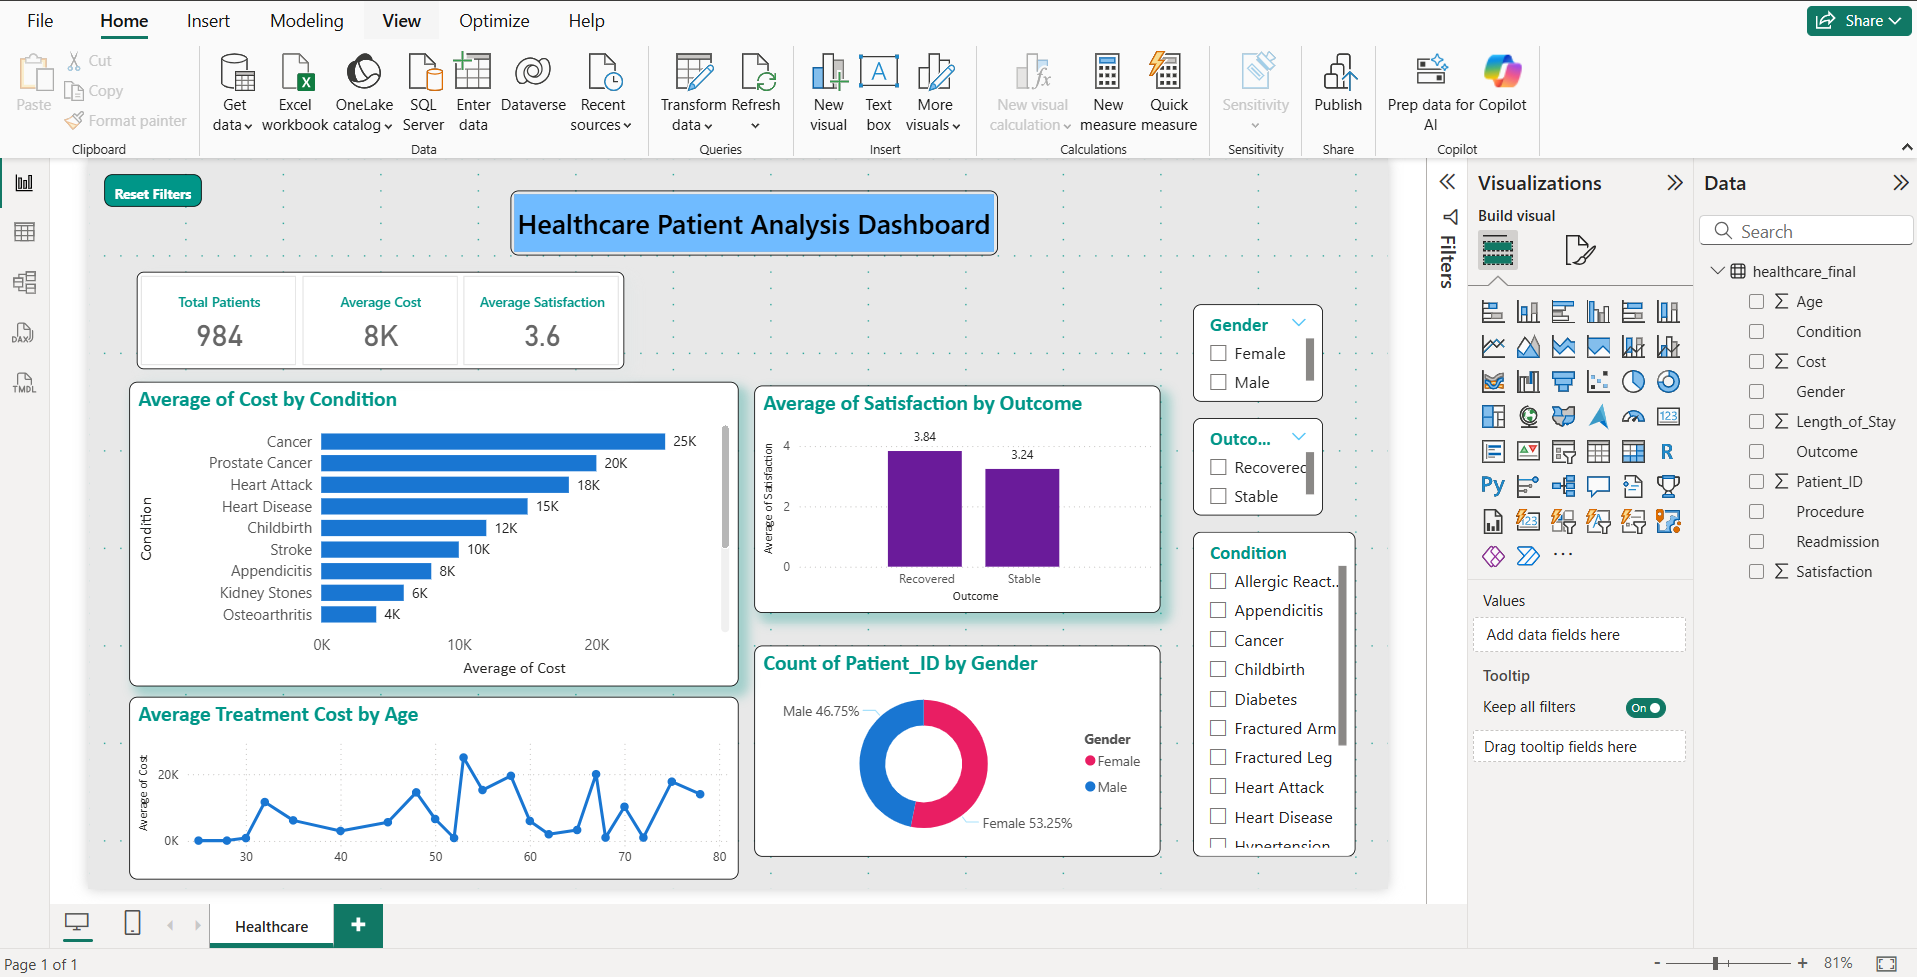

What the dashboard file says about the page in this screenshot:
{"tool":"powerbi","page":{"name":"Healthcare","canvas":[1280,720],"ordinal":0},"visuals":[{"type":"donutChart","fields":{"Category":["healthcare_final.Gender"],"Y":["CountNonNull(healthcare_final.Patient_ID)"]},"box":[656,480,400,208],"z":0},{"type":"clusteredBarChart","fields":{"Category":["healthcare_final.Condition"],"Y":["Avg(healthcare_final.Cost)"]},"box":[40,220,600,300],"z":1000},{"type":"slicer","fields":{"Values":["healthcare_final.Gender"]},"box":[1088,144,128,96],"z":2000},{"type":"slicer","fields":{"Values":["healthcare_final.Outcome"]},"box":[1088,256,128,96],"z":3000},{"type":"slicer","fields":{"Values":["healthcare_final.Condition"]},"box":[1088,368,160,320],"z":4000},{"type":"actionButton","box":[16,16,96,32],"z":5000},{"type":"shape","box":[416,32,480,64],"z":6000},{"type":"cardVisual","fields":{"Data":["CountNonNull(healthcare_final.Patient_ID)","Avg(healthcare_final.Cost)","Avg(healthcare_final.Satisfaction)"]},"box":[48,112,480,96],"z":7000},{"type":"clusteredColumnChart","fields":{"Category":["healthcare_final.Outcome"],"Y":["Avg(healthcare_final.Satisfaction)"]},"box":[656,224,400,224],"z":8000},{"type":"lineChart","title":"Average Treatment Cost by Age","fields":{"Category":["healthcare_final.Age"],"Y":["Avg(healthcare_final.Cost)"]},"box":[40,530,600,180],"z":9000}]}

Visuals, with their boxes on the page's 1280x720 design canvas (x1, y1, x2, y2). These are canvas units, not pixel positions in the 1917x977 screenshot, which may show the page scaled, cropped or inside an application window:
donutChart - healthcare_final.Gender x CountNonNull(healthcare_final.Patient_ID): Rect(656, 480, 1056, 688)
clusteredBarChart - healthcare_final.Condition x Avg(healthcare_final.Cost): Rect(40, 220, 640, 520)
slicer - healthcare_final.Gender: Rect(1088, 144, 1216, 240)
slicer - healthcare_final.Outcome: Rect(1088, 256, 1216, 352)
slicer - healthcare_final.Condition: Rect(1088, 368, 1248, 688)
actionButton: Rect(16, 16, 112, 48)
shape: Rect(416, 32, 896, 96)
cardVisual - CountNonNull(healthcare_final.Patient_ID) x Avg(healthcare_final.Cost): Rect(48, 112, 528, 208)
clusteredColumnChart - healthcare_final.Outcome x Avg(healthcare_final.Satisfaction): Rect(656, 224, 1056, 448)
"Average Treatment Cost by Age" lineChart: Rect(40, 530, 640, 710)
